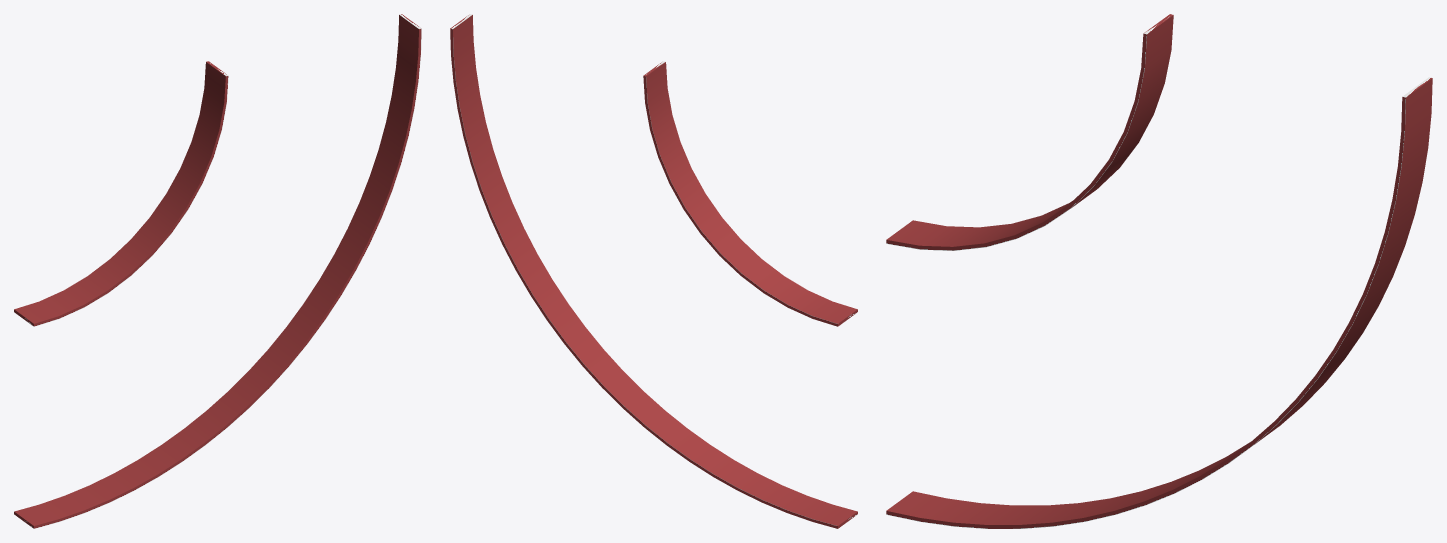
The model's file is round_turn_90_21m.dae.
3 views of the same model, side by side, from view 1: azimuth 30°, elevation 25°; view 2: azimuth 150°, elevation 25°; view 3: azimuth 330°, elevation 25° (orthographic). The views are drawn at different scales.
Visible parts, largest first — view 1: pPipe2, pPipe1; view 2: pPipe2, pPipe1; view 3: pPipe2, pPipe1.
Boxes of the visible parts, x1,y1,x2,y2 form: pPipe2: [14, 14, 421, 528]; pPipe1: [14, 61, 228, 326]; pPipe2: [450, 14, 857, 528]; pPipe1: [643, 61, 857, 326]; pPipe2: [886, 77, 1432, 528]; pPipe1: [886, 14, 1173, 250].
Size of the model in its own units: 28.1 by 28.1 by 2.5.
